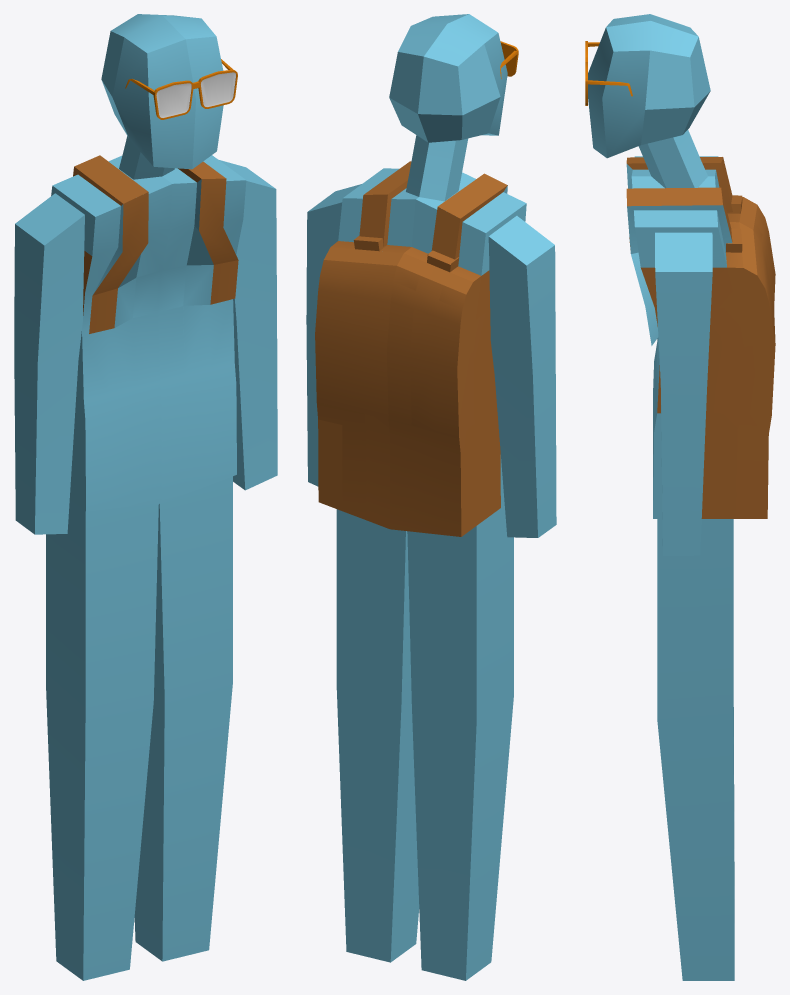
File: man03.glb
The picture shows the model from 3 angles, left to right: view 1: azimuth 30°, elevation 25°; view 2: azimuth 150°, elevation 25°; view 3: azimuth 270°, elevation 25°; orthographic projection. The views are drawn at different scales.
Visible parts, largest first — view 1: man03_col; view 2: man03_col; view 3: man03_col.
Boxes of the visible parts, bbox=[...] form: man03_col: bbox=[14, 14, 277, 980]; man03_col: bbox=[306, 14, 556, 980]; man03_col: bbox=[585, 14, 775, 980].
Bounding box in the file's own units: 3.22 × 12.18 × 2.26.
